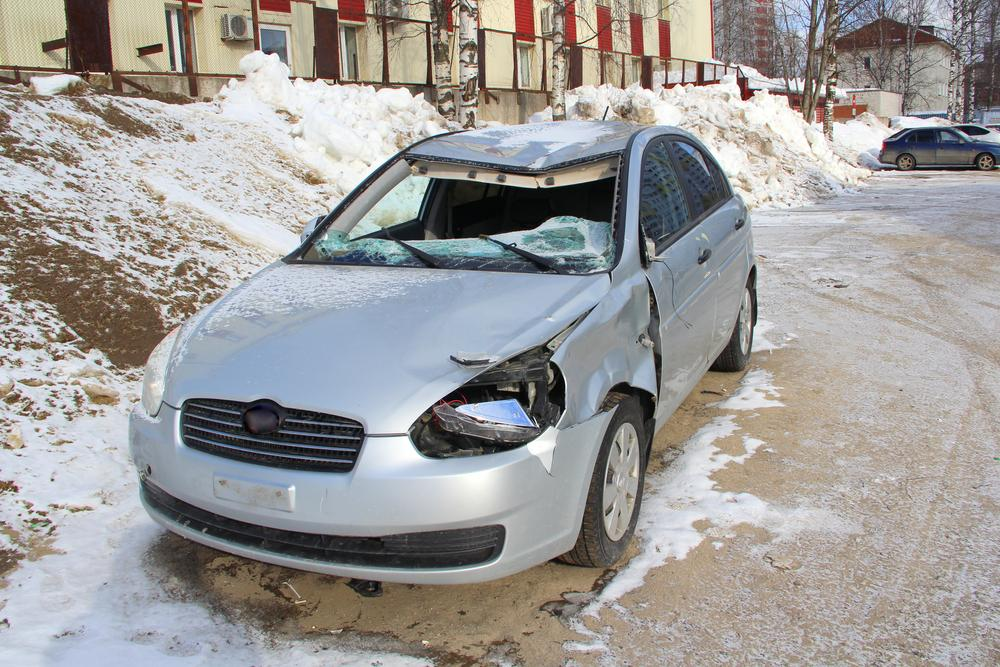dent: (410, 287, 589, 384), (554, 283, 658, 422), (442, 121, 634, 168)
glass shatter: (298, 156, 621, 273)
lamp broken: (409, 343, 564, 458)
